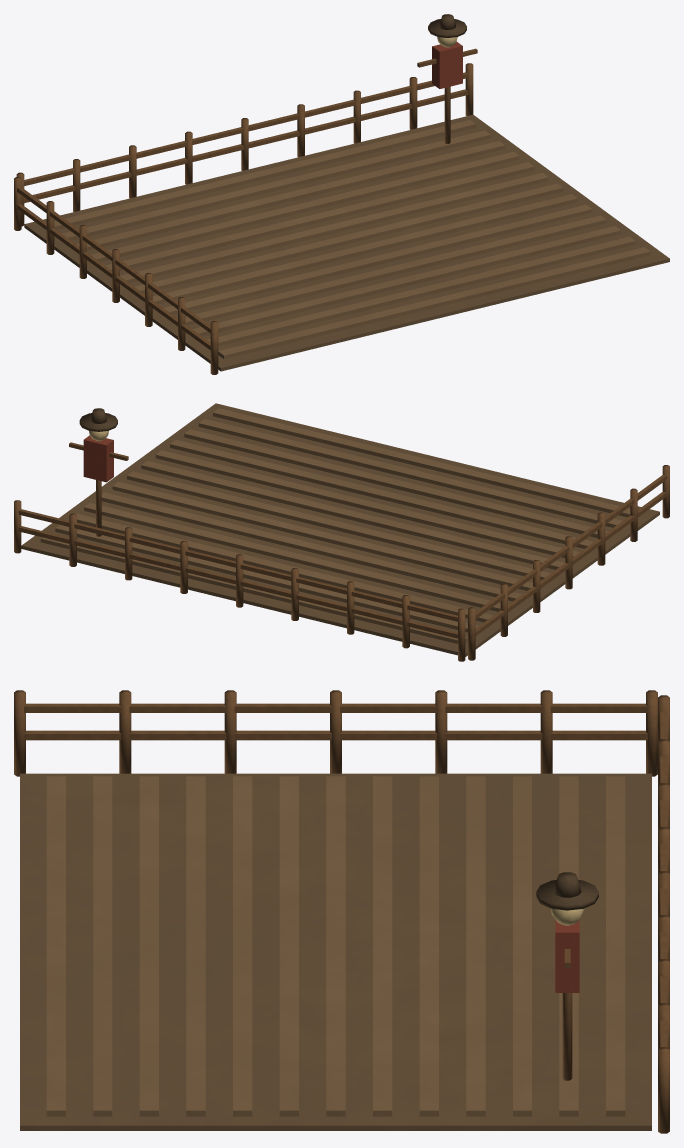
File: field_bare.glb
3 views of the same model, one above another, from view 1: azimuth 30°, elevation 25°; view 2: azimuth 150°, elevation 25°; view 3: azimuth 270°, elevation 25° (orthographic). The views are drawn at different scales.
Visible parts, largest first — view 1: field_bare; view 2: field_bare; view 3: field_bare.
Boxes of the visible parts, x1,y1,x2,y2 form: field_bare: (14, 14, 669, 374); field_bare: (14, 403, 669, 661); field_bare: (14, 690, 669, 1133).
Size of the model in its own units: 7.1 by 1.97 by 5.44.
Materials: 1 (1 with a texture image).
